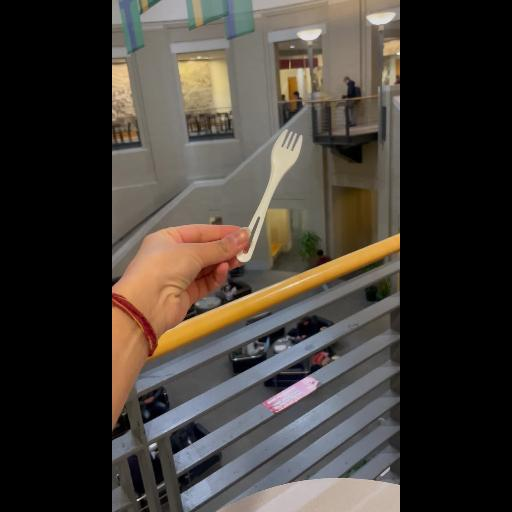utensil: (235, 128, 305, 266)
